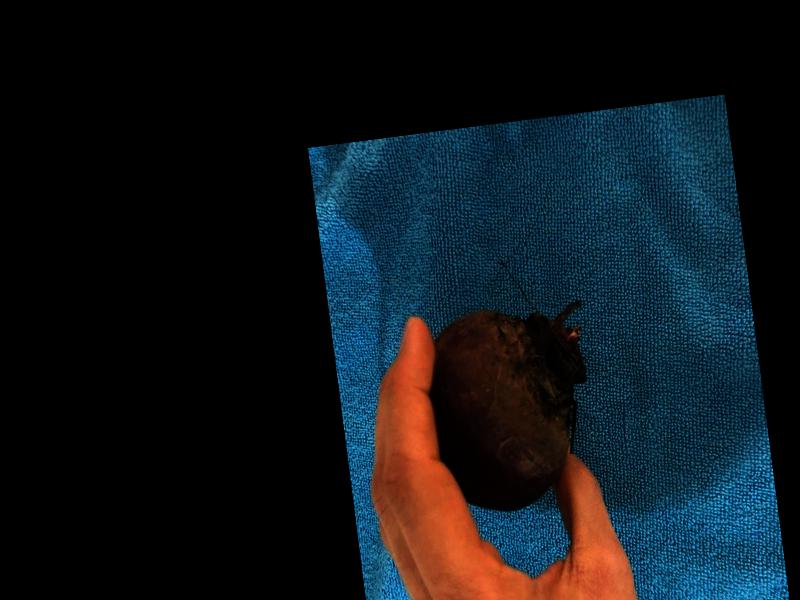Beet: (422, 298, 605, 517)
